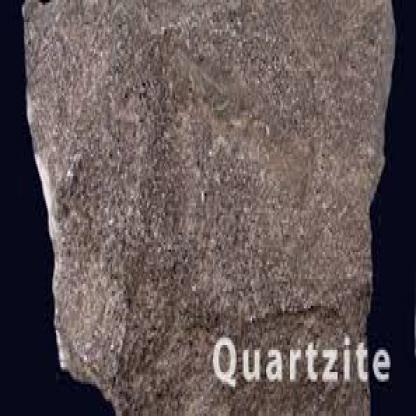Metamorphic_Quartize: (21, 10, 389, 414)
